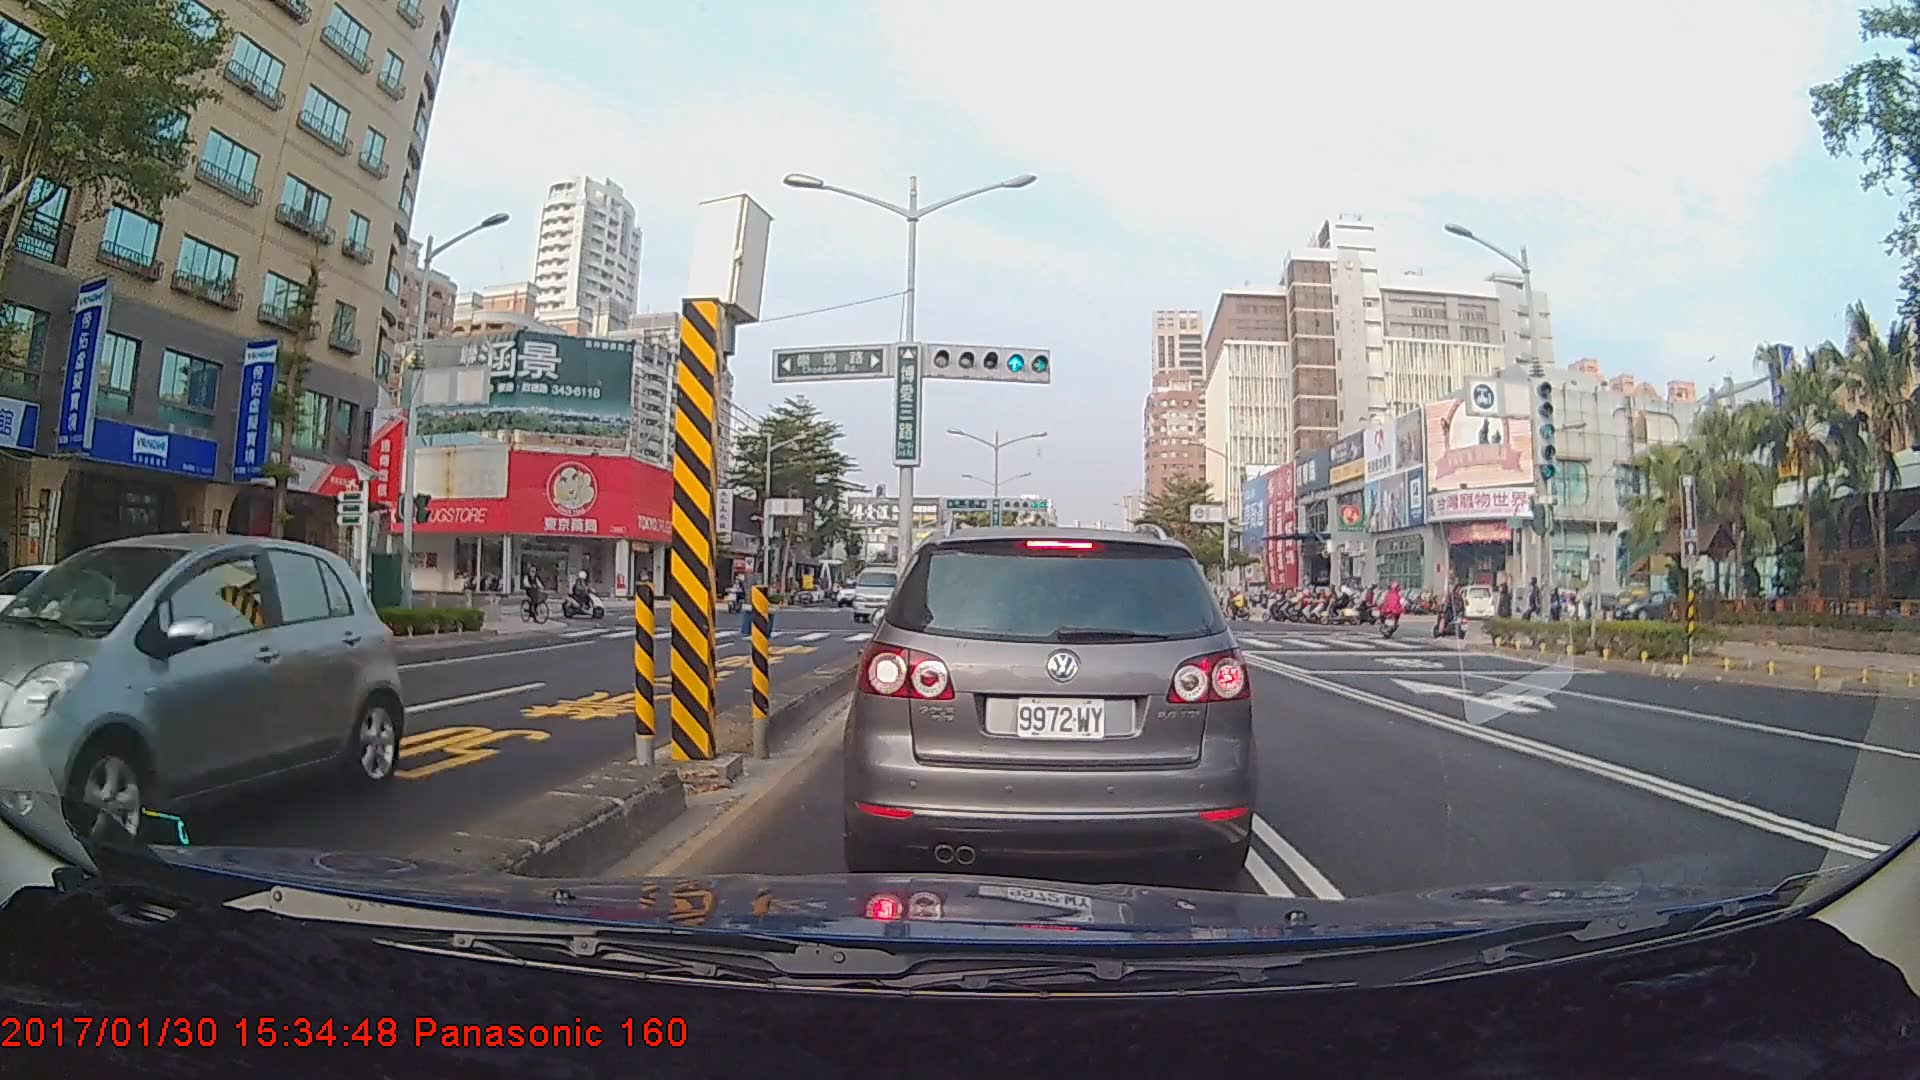pedestrian: (1494, 579, 1520, 637)
rider: (518, 559, 560, 629), (1436, 582, 1473, 646), (1382, 580, 1412, 640)
vehicle: (853, 523, 1250, 876), (0, 533, 406, 846), (850, 555, 908, 621)
